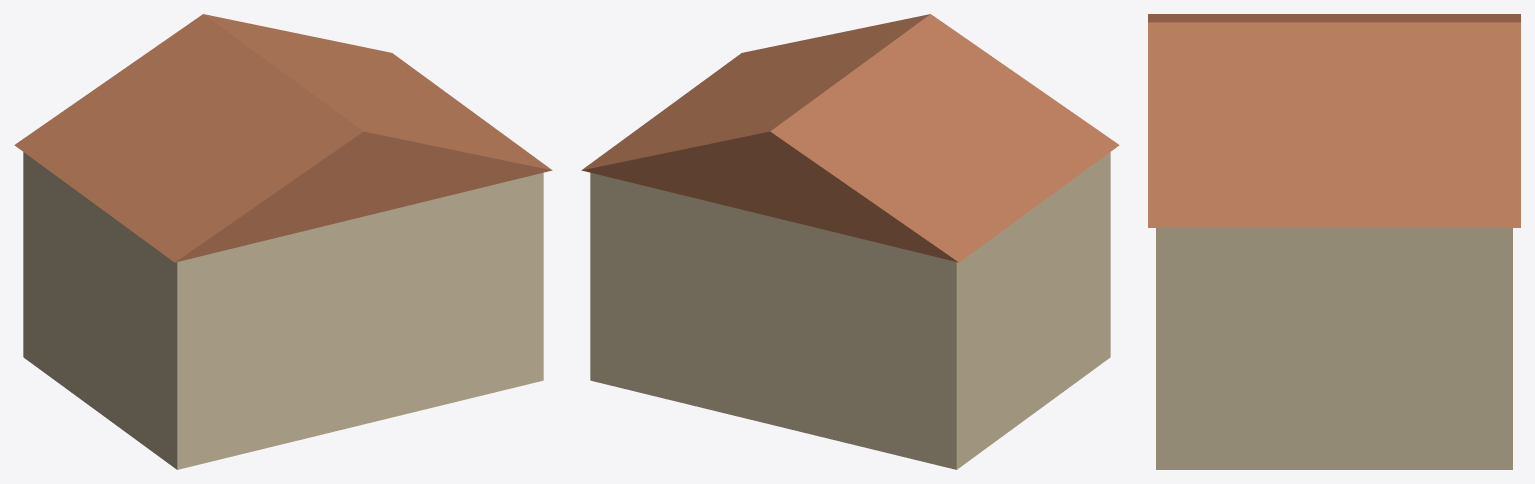
The model's file is block_hall.glb.
3 renders of one model, left to right at view 1: azimuth 30°, elevation 25°; view 2: azimuth 150°, elevation 25°; view 3: azimuth 270°, elevation 25°, orthographic. The views are drawn at different scales.
Visible parts, largest first — view 1: Body.004, Roof.004; view 2: Body.004, Roof.004; view 3: Body.004, Roof.004.
Part boxes in pixels (<box>): Body.004: <box>23,152,543,469</box>; Roof.004: <box>14,14,552,262</box>; Body.004: <box>590,152,1110,469</box>; Roof.004: <box>581,14,1119,262</box>; Body.004: <box>1156,228,1512,469</box>; Roof.004: <box>1148,14,1520,227</box>.
Size of the model in its own units: 22.7 by 17 by 16.7.
